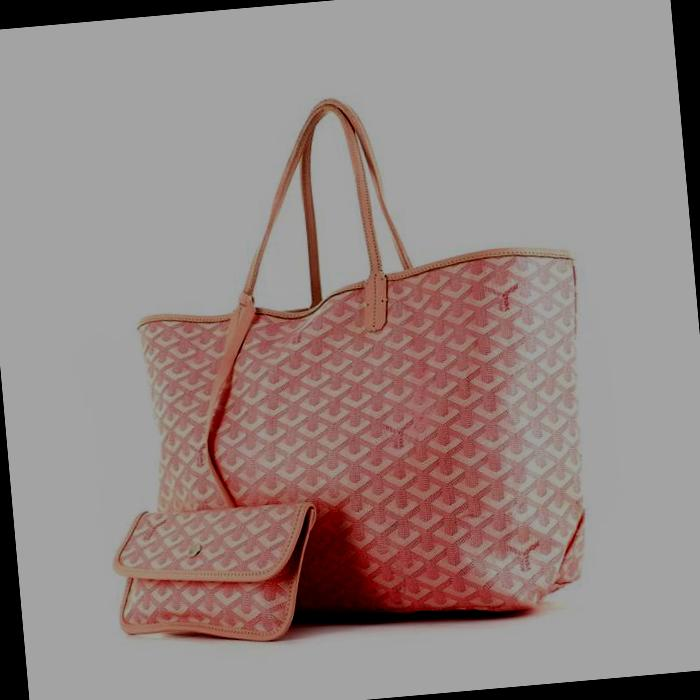GOYARD: (133, 252, 605, 642), (114, 498, 315, 646)
